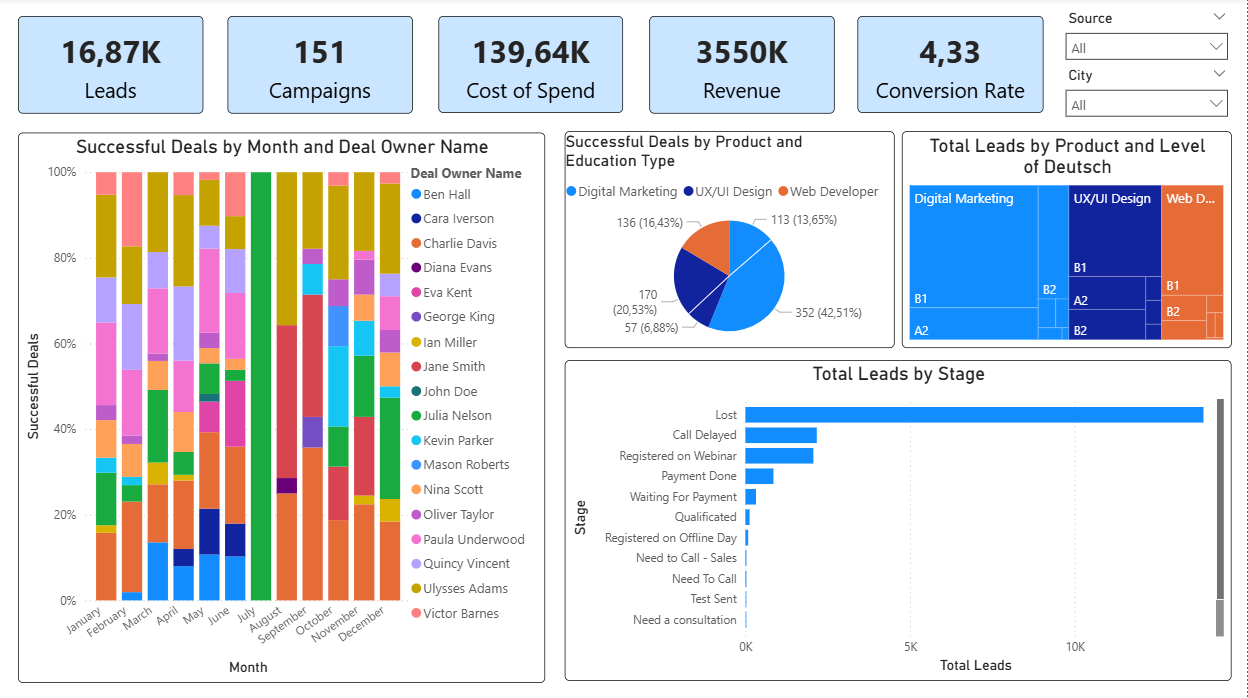

Layout of this report page (visuals, bound fields, positions):
{"tool":"powerbi","page":{"name":"project","canvas":[1280,720],"ordinal":0},"visuals":[{"type":"card","fields":{"Values":["Count(Sheet1.Contact Name)"]},"box":[18.2,18.2,190,100],"z":0},{"type":"card","fields":{"Values":["Count(Sheet1.Campaign)"]},"box":[234.2,18,190,99.9],"z":1000},{"type":"slicer","fields":{"Values":["Sheet1.Source"]},"box":[1084.4,7.5,186.9,64.3],"z":2000},{"type":"card","fields":{"Values":["Sum(spend.Spend)"]},"box":[450.2,18.5,189.5,99.7],"z":3000},{"type":"card","fields":{"Values":["_measure.Revenue"]},"box":[666.5,18,190,99.9],"z":4000},{"type":"donutChart","fields":{"Y":["_measure.Successful Deals"],"Category":["deals.Product"],"Series":["deals.Education Type"]},"box":[579.2,137.4,338.4,222.6],"z":5000},{"type":"treemap","fields":{"Group":["deals.Product"],"Values":["_measure.Total Leads"],"Details":["deals.Level of Deutsch"]},"box":[925.6,137.4,338.4,222.6],"z":6000},{"type":"hundredPercentStackedColumnChart","fields":{"Category":["deals.Closing Date.Variation.Date Hierarchy.Month"],"Series":["deals.Deal Owner Name"],"Y":["_measure.Successful Deals"]},"box":[18.5,137.7,541.4,565],"z":7000},{"type":"slicer","fields":{"Values":["deals.City"]},"box":[1084.4,65.9,186.9,61.3],"z":8000},{"type":"clusteredBarChart","fields":{"Category":["deals.Stage"],"Y":["_measure.Total Leads"]},"box":[579.2,372.5,684.8,329.4],"z":9000},{"type":"card","fields":{"Values":["_measure.Conversion Rate"]},"box":[880.5,18.5,190.9,99.7],"z":10000}]}

Visuals, with their boxes in screenshot pixels (x1, y1, x2, y2), scaled from the page's 1280x720 canvas onto the 1248x698 screenshot:
card - Count(Sheet1.Contact Name): {"left": 18, "top": 18, "right": 203, "bottom": 115}
card - Count(Sheet1.Campaign): {"left": 228, "top": 17, "right": 414, "bottom": 114}
slicer - Sheet1.Source: {"left": 1057, "top": 7, "right": 1240, "bottom": 70}
card - Sum(spend.Spend): {"left": 439, "top": 18, "right": 624, "bottom": 115}
card - _measure.Revenue: {"left": 650, "top": 17, "right": 835, "bottom": 114}
donutChart - _measure.Successful Deals x deals.Product: {"left": 565, "top": 133, "right": 895, "bottom": 349}
treemap - deals.Product x _measure.Total Leads: {"left": 902, "top": 133, "right": 1232, "bottom": 349}
hundredPercentStackedColumnChart - deals.Closing Date.Variation.Date Hierarchy.Month x deals.Deal Owner Name: {"left": 18, "top": 133, "right": 546, "bottom": 681}
slicer - deals.City: {"left": 1057, "top": 64, "right": 1240, "bottom": 123}
clusteredBarChart - deals.Stage x _measure.Total Leads: {"left": 565, "top": 361, "right": 1232, "bottom": 680}
card - _measure.Conversion Rate: {"left": 858, "top": 18, "right": 1045, "bottom": 115}
